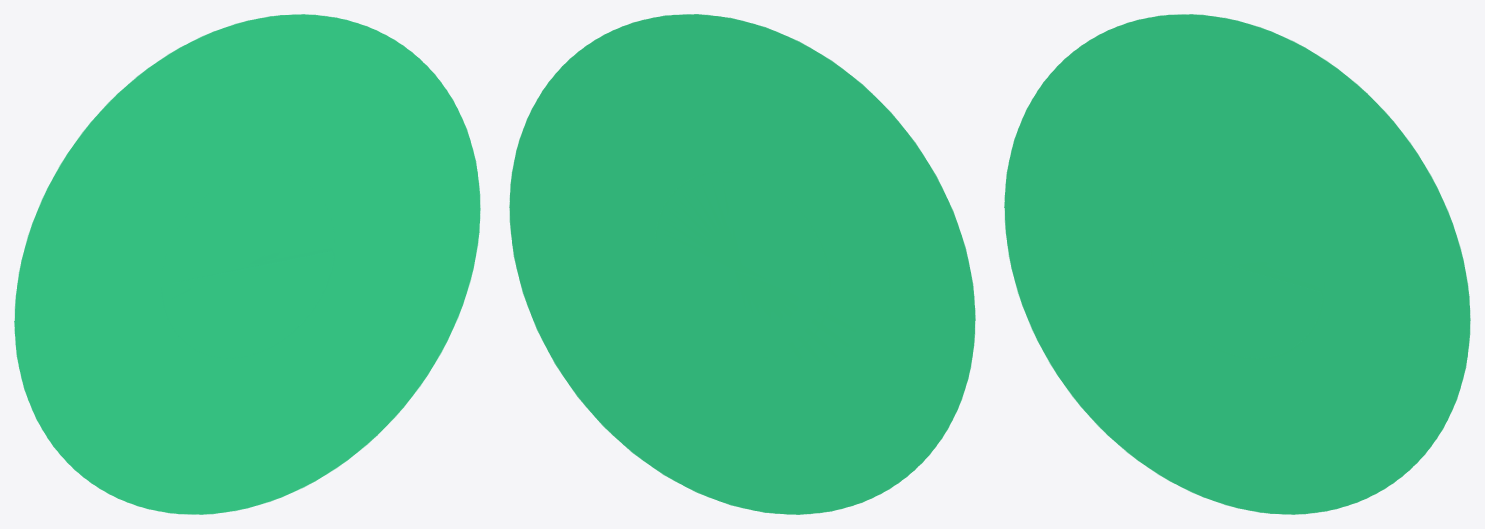
Rendered from a_dna_helix_wireframe_fallback_1767307362716 (1).glb.
3 views of the same model, side by side, from view 1: azimuth 30°, elevation 25°; view 2: azimuth 150°, elevation 25°; view 3: azimuth 330°, elevation 25° (orthographic).
Parts seen in each view (by area): view 1: MathShape_GlowCore; view 2: MathShape_GlowCore; view 3: MathShape_GlowCore.
Part boxes in pixels (x1,y1,x2,y2): MathShape_GlowCore: (14, 14, 480, 514); MathShape_GlowCore: (509, 14, 975, 514); MathShape_GlowCore: (1004, 14, 1470, 514).
Bounding box in the file's own units: 2 × 2 × 0.00859.
